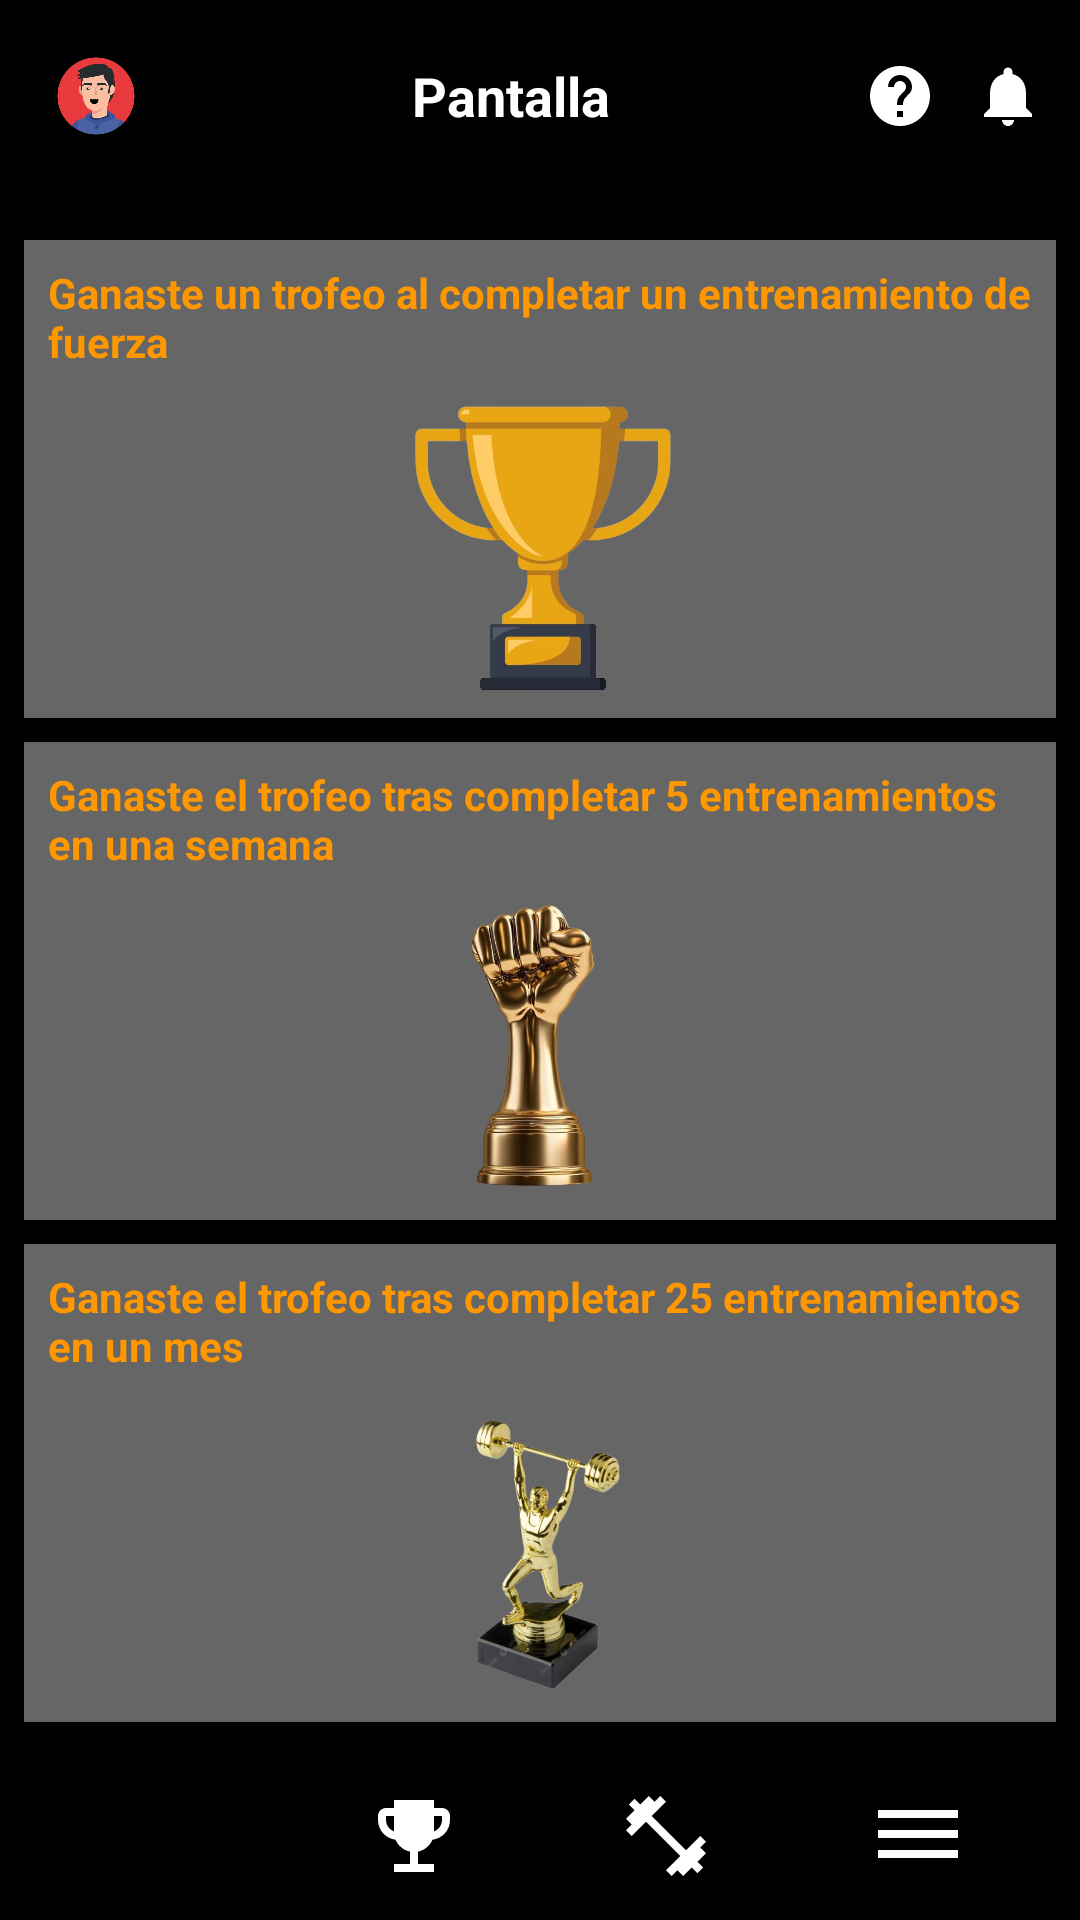

Icon click points for this 1080px×1920px phone screenshot, format [x,y]:
Ayuda: [900,96]
Icono de entrenamiento: [666,1836]
Icono de logros: [414,1836]
Icono del menú: [918,1834]
Notificaciones: [1008,96]
